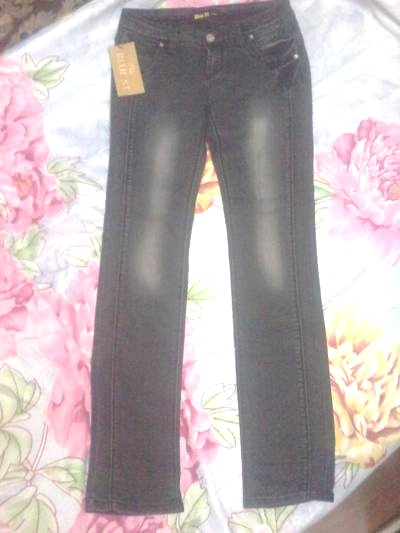Pants: (78, 9, 352, 516)
